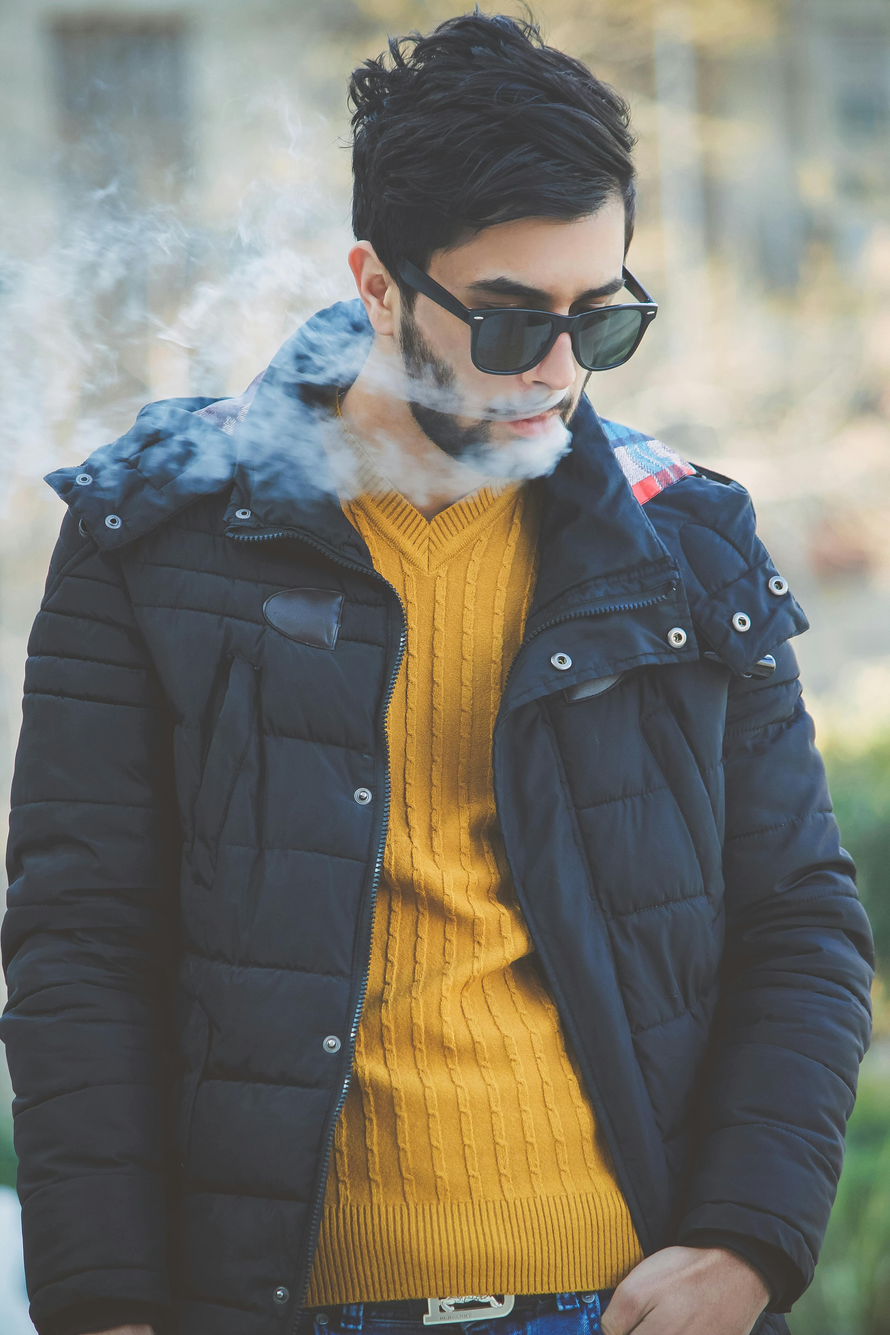smoker: (101, 26, 772, 853)
